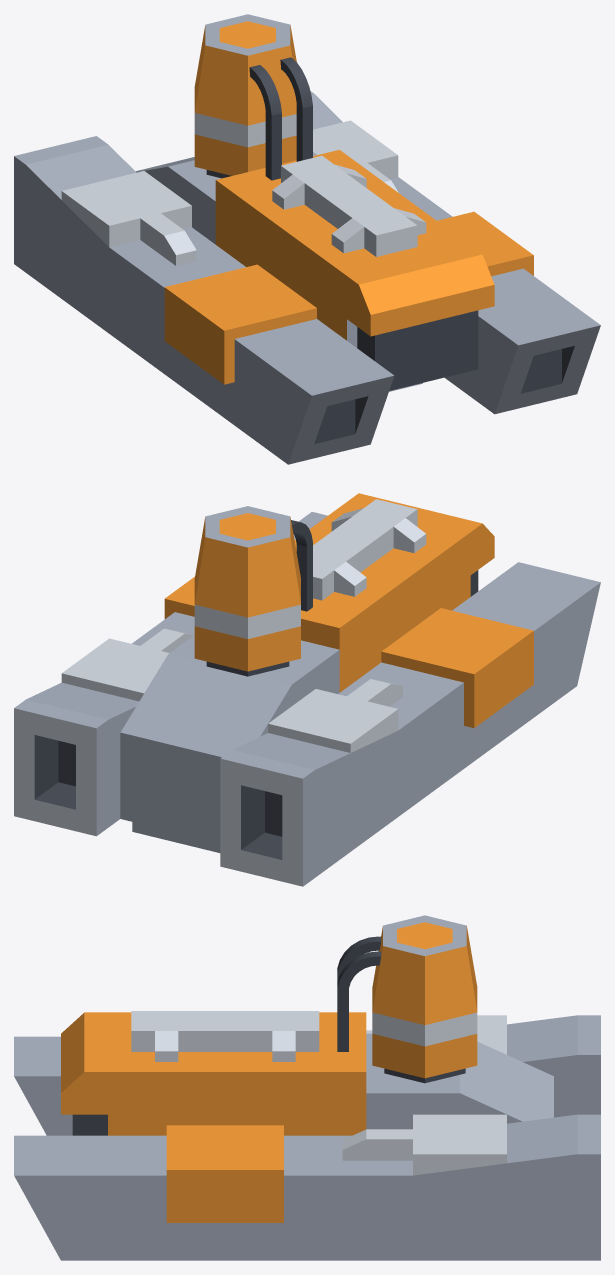
Rendered from sonde_2.glb.
3 renders of one model, top to bottom at view 1: azimuth 30°, elevation 25°; view 2: azimuth 150°, elevation 25°; view 3: azimuth 270°, elevation 25°, orthographic.
Visible parts, largest first — view 1: mergedBlocks(Clone); view 2: mergedBlocks(Clone); view 3: mergedBlocks(Clone).
Boxes of the visible parts, x1,y1,x2,y2 form: mergedBlocks(Clone): [14, 14, 600, 464]; mergedBlocks(Clone): [14, 493, 600, 886]; mergedBlocks(Clone): [14, 915, 600, 1260].
Bounding box in the file's own units: 1.5 × 1.3 × 2.5.
Materials: 1 (1 with a texture image).
